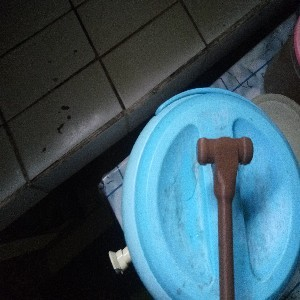palu: (195, 134, 253, 300)
